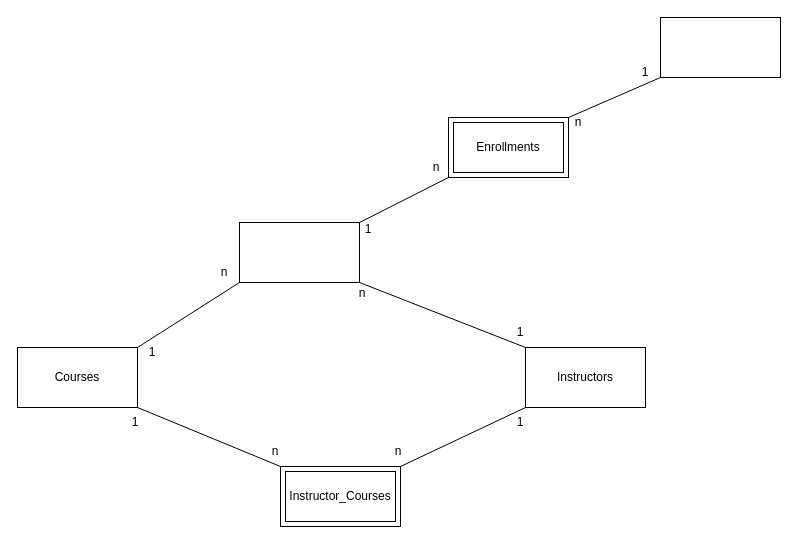
Some shapes in this 798 by 544 pixel diagram are drawn without their labels. Here are the shapes that lost their labels. From the top down, the box of each, then its label:
(660, 16, 780, 78): Students
(238, 222, 360, 282): Class_section
